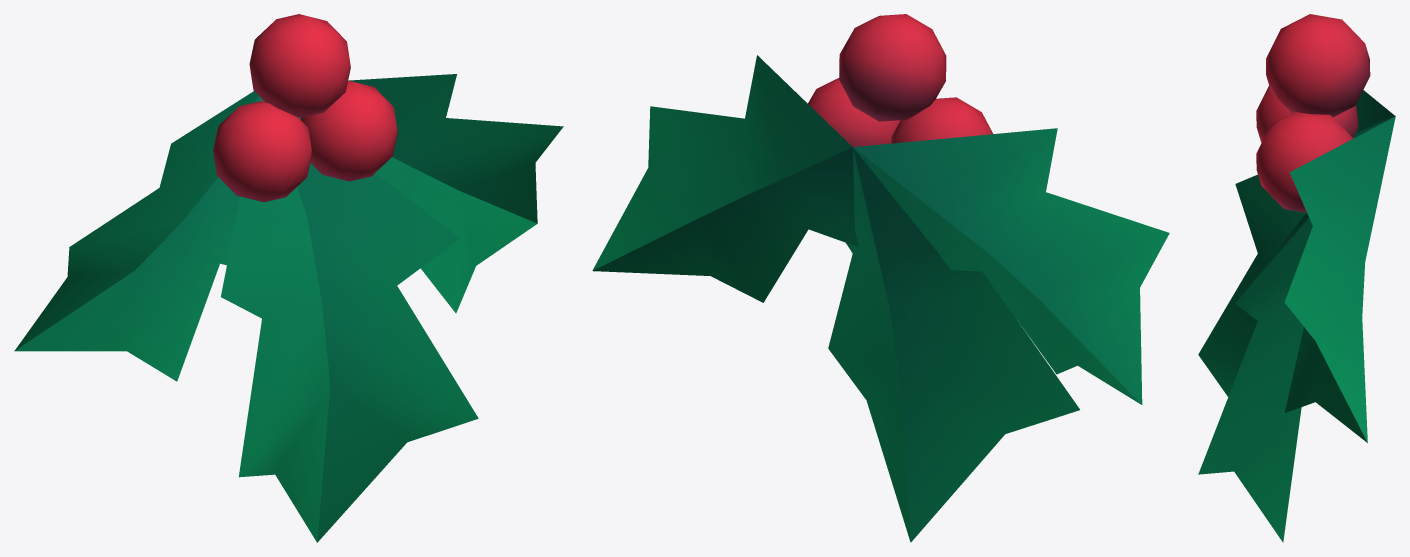
File: mistletoe_A.glb
3 views of the same model, side by side, from view 1: azimuth 30°, elevation 25°; view 2: azimuth 150°, elevation 25°; view 3: azimuth 270°, elevation 25° (orthographic). The views are drawn at different scales.
Parts seen in each view (by area): view 1: mistletoe_A; view 2: mistletoe_A; view 3: mistletoe_A.
Part boxes in pixels (left/top/right/bottom): mistletoe_A: left=14, top=14, right=563, bottom=542; mistletoe_A: left=592, top=14, right=1169, bottom=542; mistletoe_A: left=1198, top=14, right=1395, bottom=542.
Size of the model in its own units: 0.7336 by 0.6854 by 0.2342.
1 material, 1 textured.
